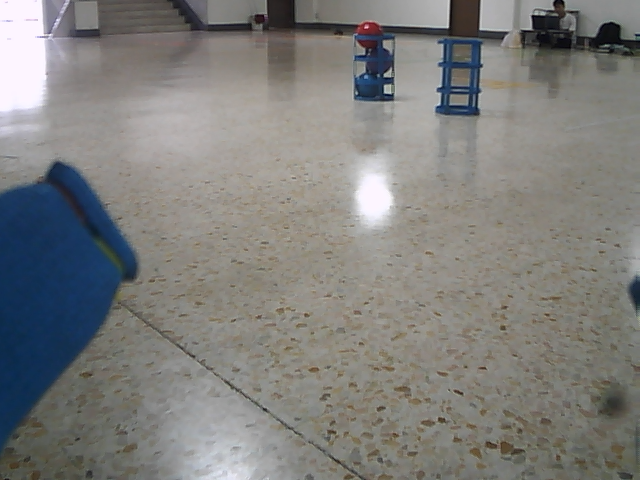Blue ball: (356, 72, 380, 99)
Cyro: (433, 35, 484, 118), (349, 34, 398, 103)
Purple ball: (366, 47, 392, 73)
Red ball: (355, 20, 383, 47)
